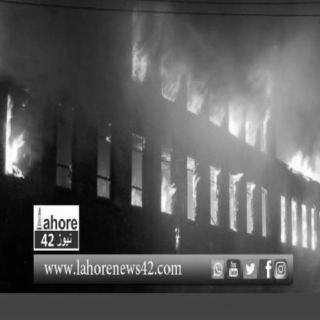Fire: (130, 32, 319, 250)
